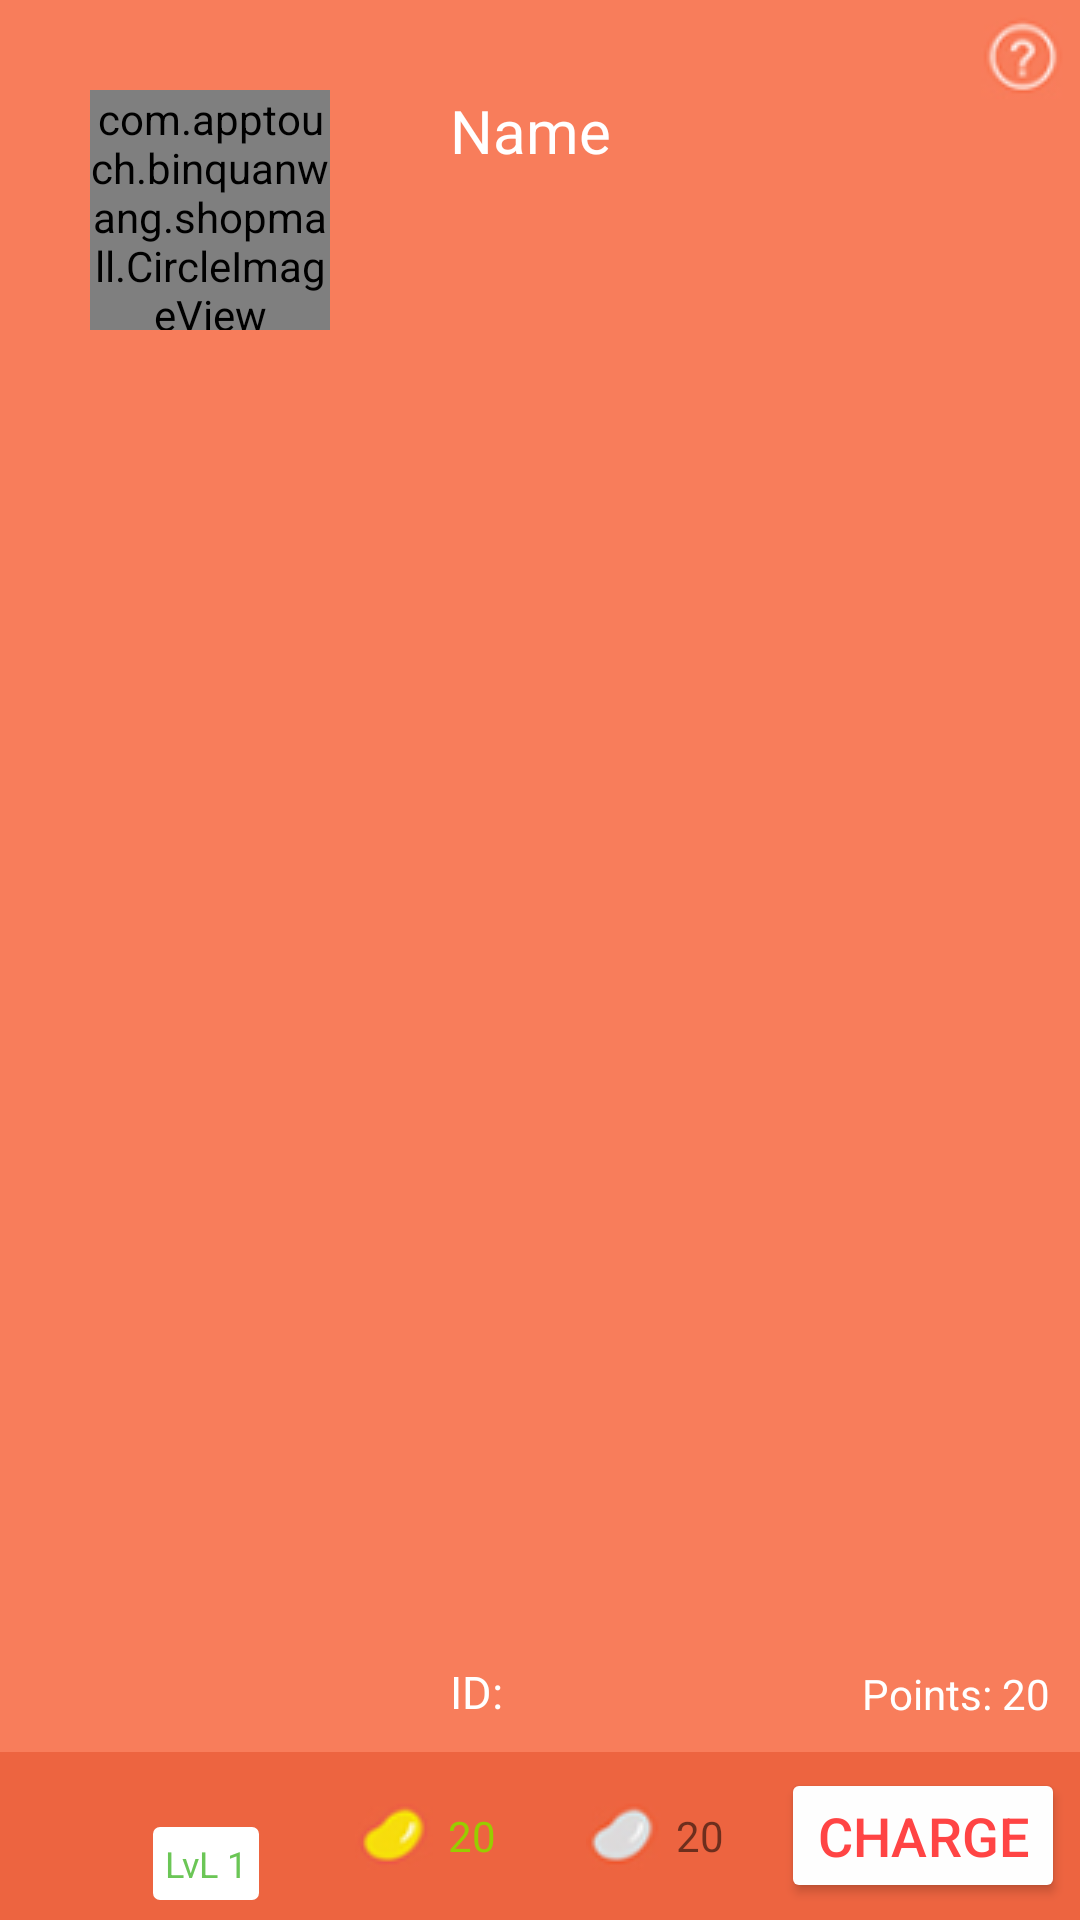

Icons on this 1080×1920 Android screen, each with its box as bbox(x1, y1, x2, y2):
me goldbean: bbox(363, 1809, 424, 1861)
me silverbean: bbox(592, 1809, 653, 1861)
question mark: bbox(989, 23, 1057, 90)
